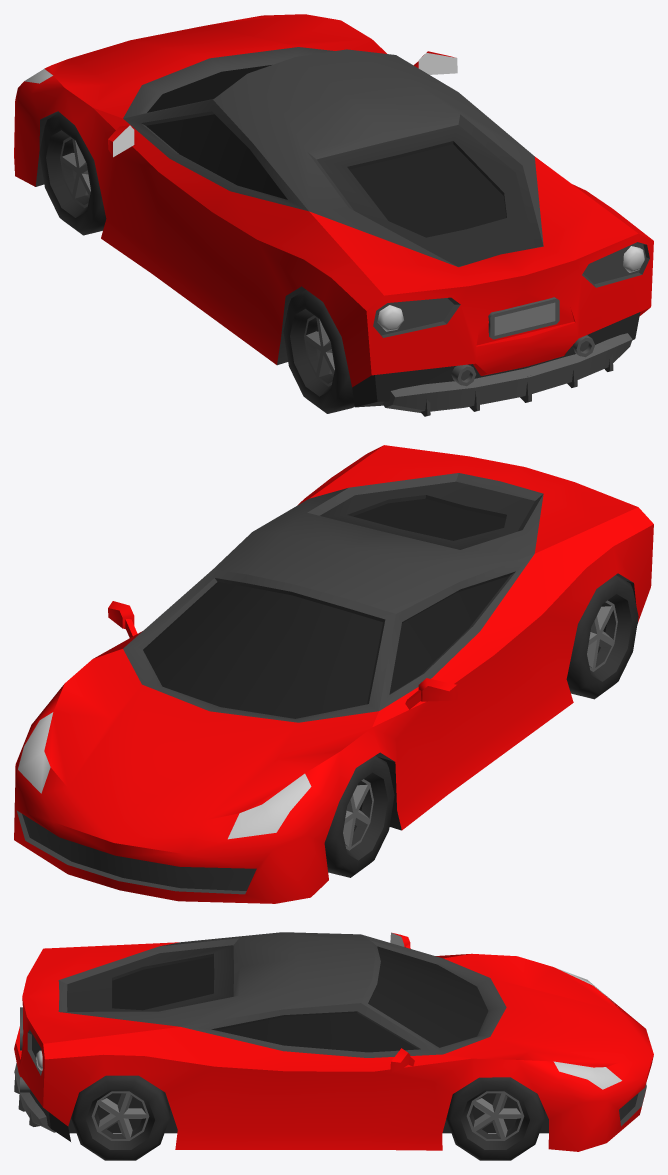
Rendered from italia.obj.
3 renders of one model, top to bottom at view 1: azimuth 30°, elevation 25°; view 2: azimuth 150°, elevation 25°; view 3: azimuth 270°, elevation 25°, orthographic. The views are drawn at different scales.
Visible parts, largest first — view 1: italia, wheels.036, wheels.037; view 2: italia, wheels.036, wheels.037; view 3: italia, wheels.022, wheels.023.
Part boxes in pixels (<box>): italia: <box>14,14,653,416</box>; wheels.036: <box>283,290,354,413</box>; wheels.037: <box>39,112,106,235</box>; italia: <box>14,445,653,903</box>; wheels.036: <box>566,575,638,699</box>; wheels.037: <box>324,755,394,877</box>; italia: <box>14,932,653,1151</box>; wheels.022: <box>71,1075,169,1160</box>; wheels.023: <box>446,1077,544,1160</box>.
Bounding box in the file's own units: 2.5 × 1.35 × 5.24.
4 materials, 3 textured.
